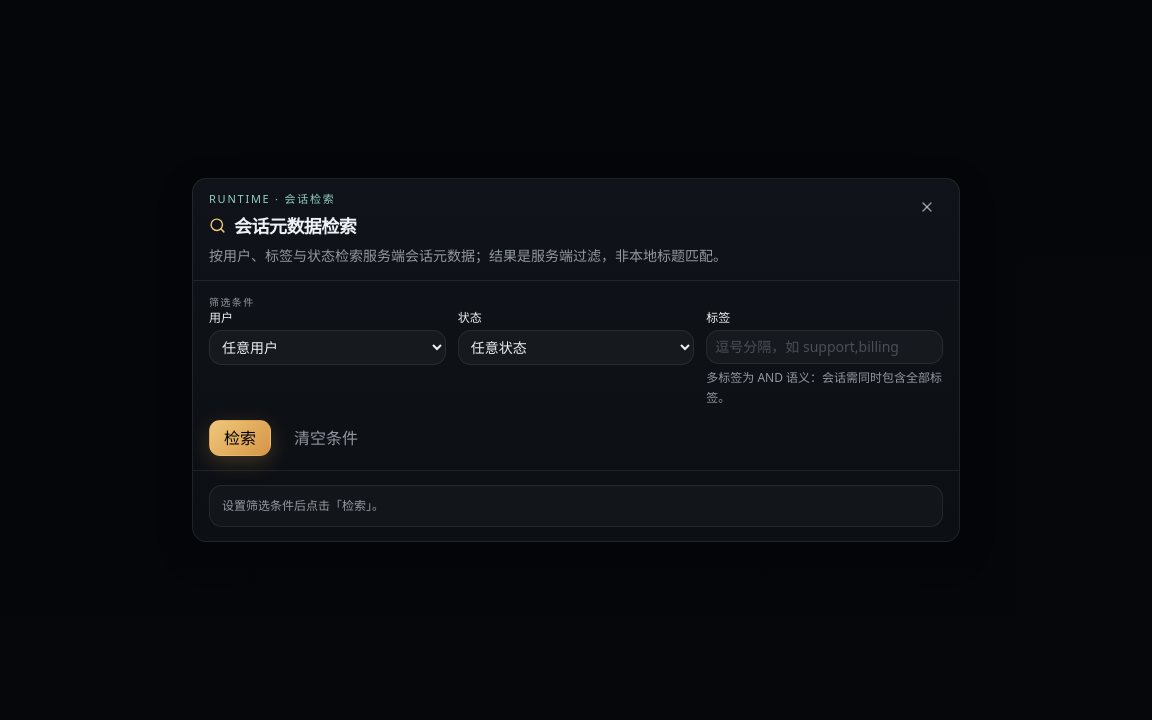
Scenario: SessionSearchDialog › 503 存储不可用时如实提示降级并可重试
The image size is (1152, 720).
Click the button "检索": (240, 438) x1=209 y1=420 x2=271 y2=456
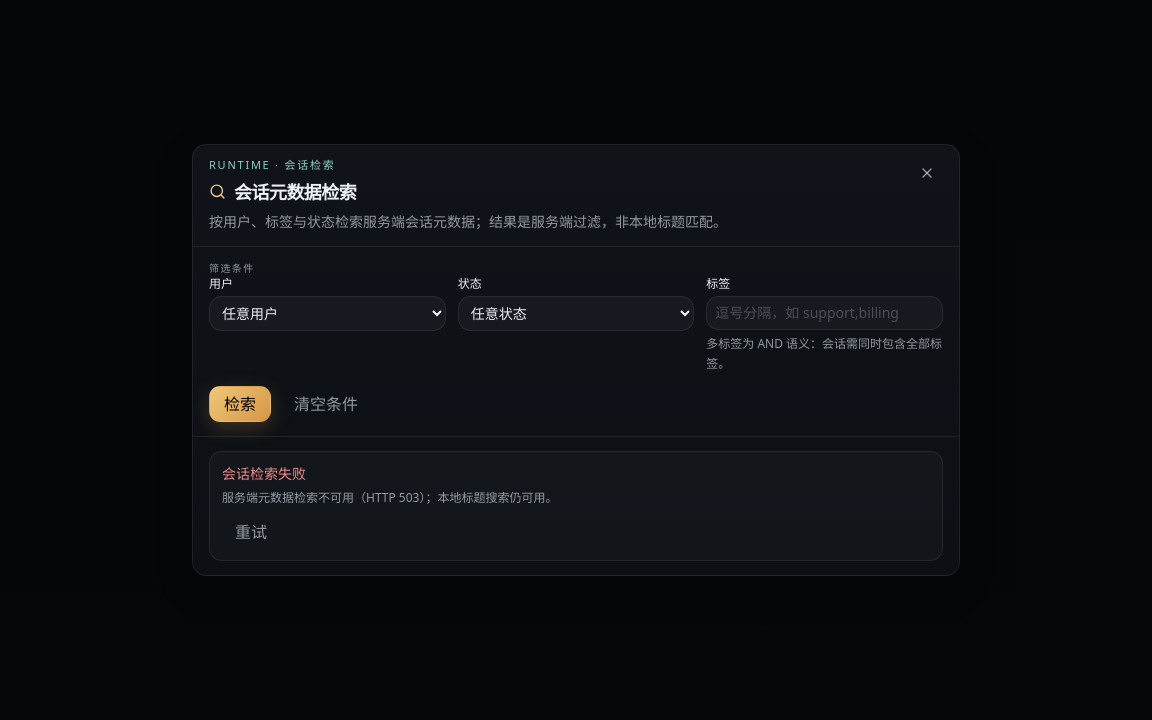
Result: the element with test id "session-search-error" shows "会话检索失败" at x1=222 y1=464 x2=306 y2=483
Result: the element with test id "session-search-error" shows "HTTP 503" at x1=222 y1=489 x2=558 y2=506
Click the button "重试": (251, 532) x1=222 y1=516 x2=280 y2=548
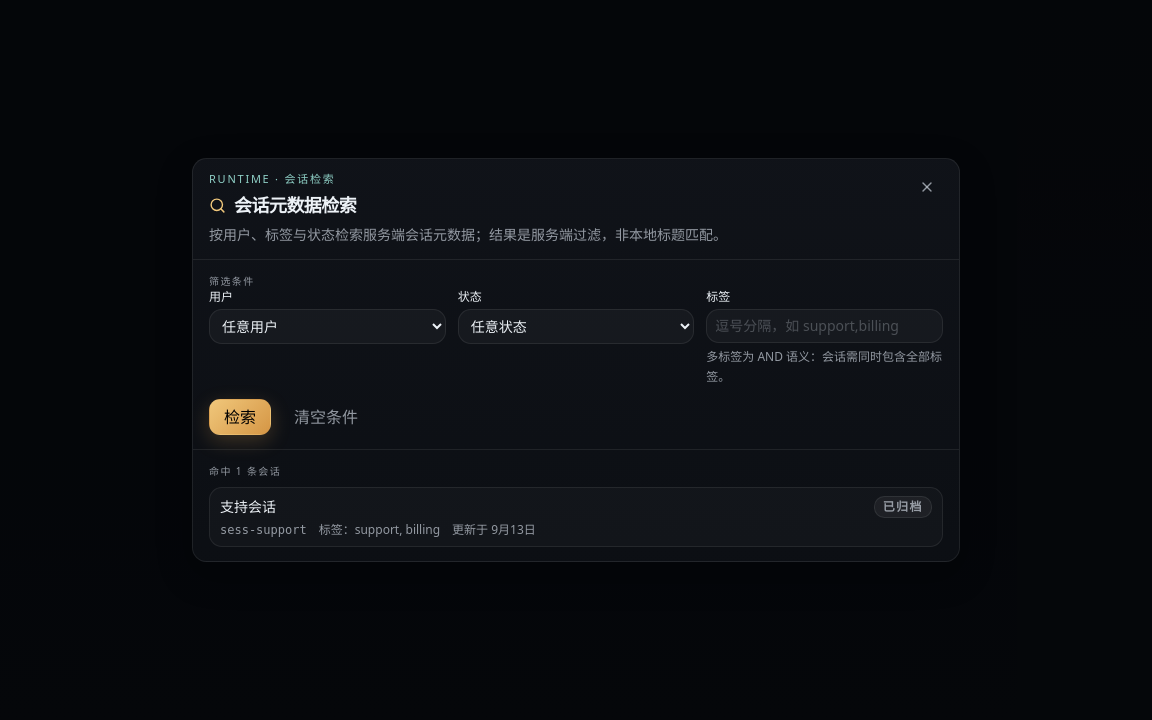
Result: the text "支持会话" is shown at x1=220 y1=497 x2=276 y2=517
